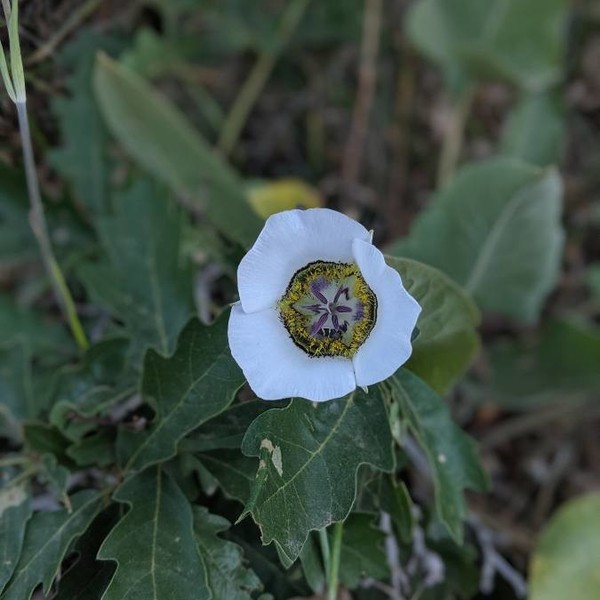obstacle: (194, 188, 465, 541)
